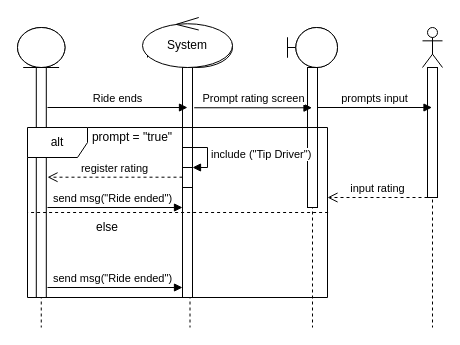
The diagram is 460 pixels wide and 345 high, and some of its shapes have lost their labels. The shapes that lost their labels are listed below. From the top down, each one's centre as x and y in pixels, then its label:
At (x=40, y=47): "Server".
At (x=312, y=47): "Screen".
